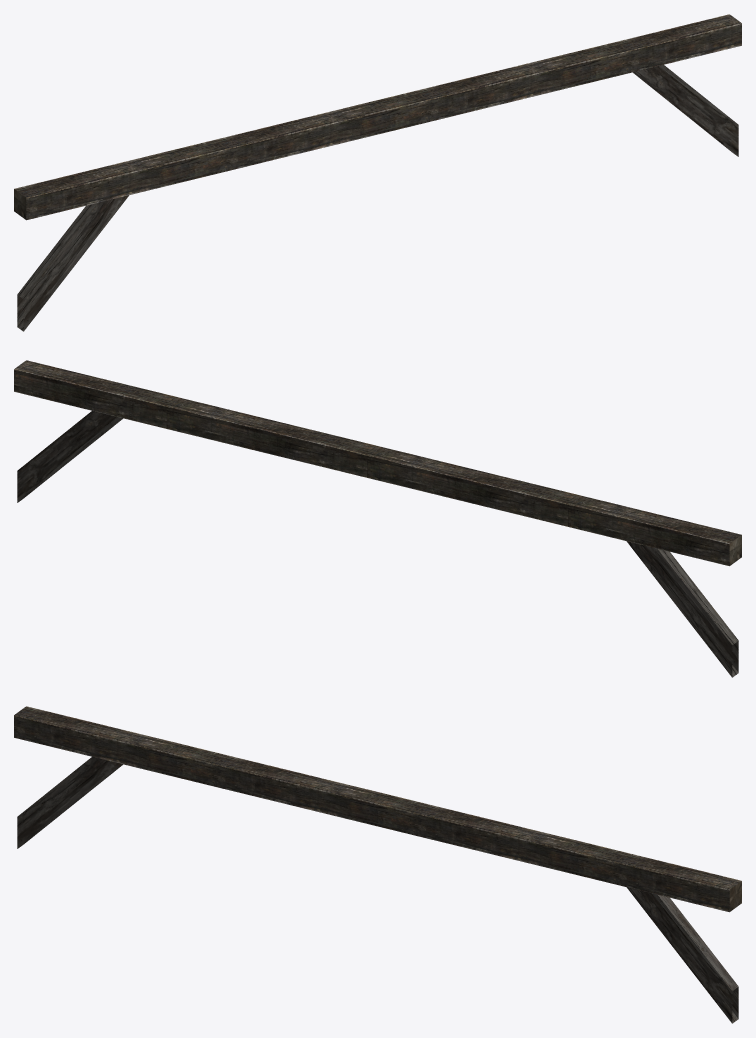
File: Wood_el10A_LOD1.fbx
3 renders of one model, top to bottom at view 1: azimuth 30°, elevation 25°; view 2: azimuth 150°, elevation 25°; view 3: azimuth 330°, elevation 25°, orthographic.
Visible parts, largest first — view 1: polySurface134; view 2: polySurface134; view 3: polySurface134.
Part boxes in pixels (x1=…): polySurface134: x1=14, y1=14, x2=741, y2=331; polySurface134: x1=14, y1=360, x2=741, y2=677; polySurface134: x1=14, y1=706, x2=741, y2=1023.
Size of the model in its own units: 15 by 2.73 by 0.45.
